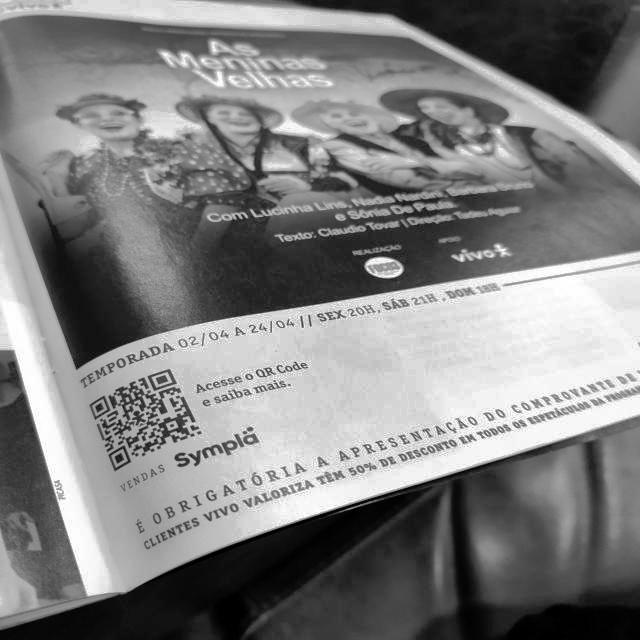qr_code: (90, 368, 202, 472)
